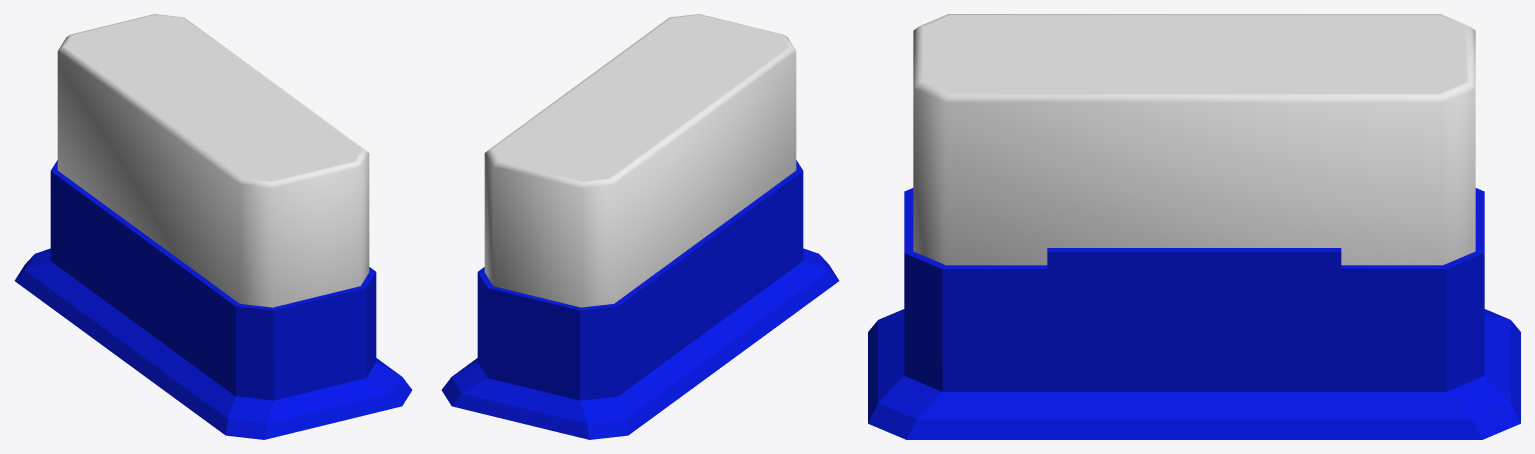
The model's file is casebrick.fbx.
3 views of the same model, side by side, from view 1: azimuth 30°, elevation 25°; view 2: azimuth 150°, elevation 25°; view 3: azimuth 270°, elevation 25° (orthographic). The views are drawn at different scales.
Parts seen in each view (by area): view 1: case_empty_block; view 2: case_empty_block; view 3: case_empty_block.
Boxes of the visible parts, x1,y1,x2,y2 form: case_empty_block: [14, 14, 412, 439]; case_empty_block: [441, 14, 839, 439]; case_empty_block: [868, 14, 1520, 439].
Bounding box in the file's own units: 200 × 444 × 243.
